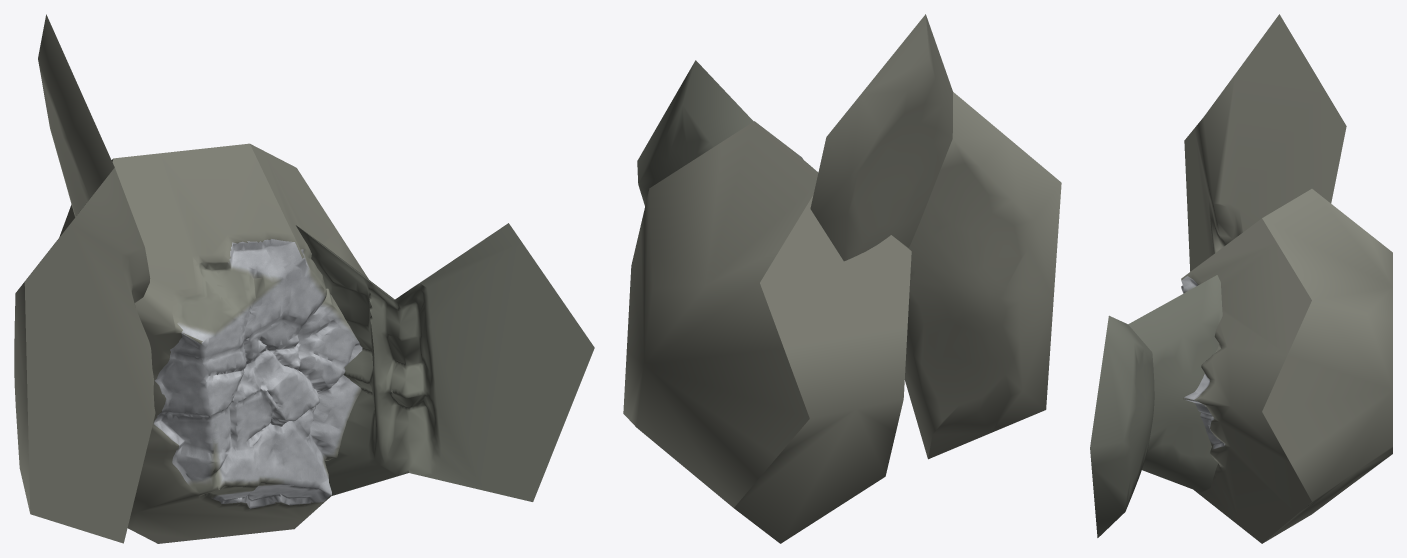
Rendered from wall-lod1.glb.
The picture shows the model from 3 angles, left to right: view 1: azimuth 30°, elevation 25°; view 2: azimuth 150°, elevation 25°; view 3: azimuth 270°, elevation 25°; orthographic projection. The views are drawn at different scales.
Parts seen in each view (by area): view 1: Wall_LOD1; view 2: Wall_LOD1; view 3: Wall_LOD1.
Boxes of the visible parts, x1=… form: Wall_LOD1: x1=14, y1=14, x2=594, y2=543; Wall_LOD1: x1=623, y1=14, x2=1061, y2=543; Wall_LOD1: x1=1090, y1=14, x2=1392, y2=543.
Bounding box in the file's own units: 43.29 × 46.9 × 28.62.
3 materials, 1 textured.
